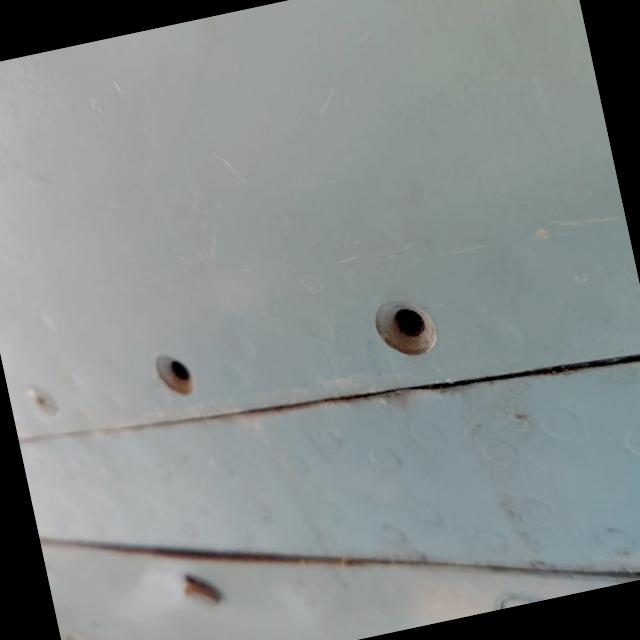Missing Fastener: (368, 290, 442, 364), (139, 338, 205, 409)
